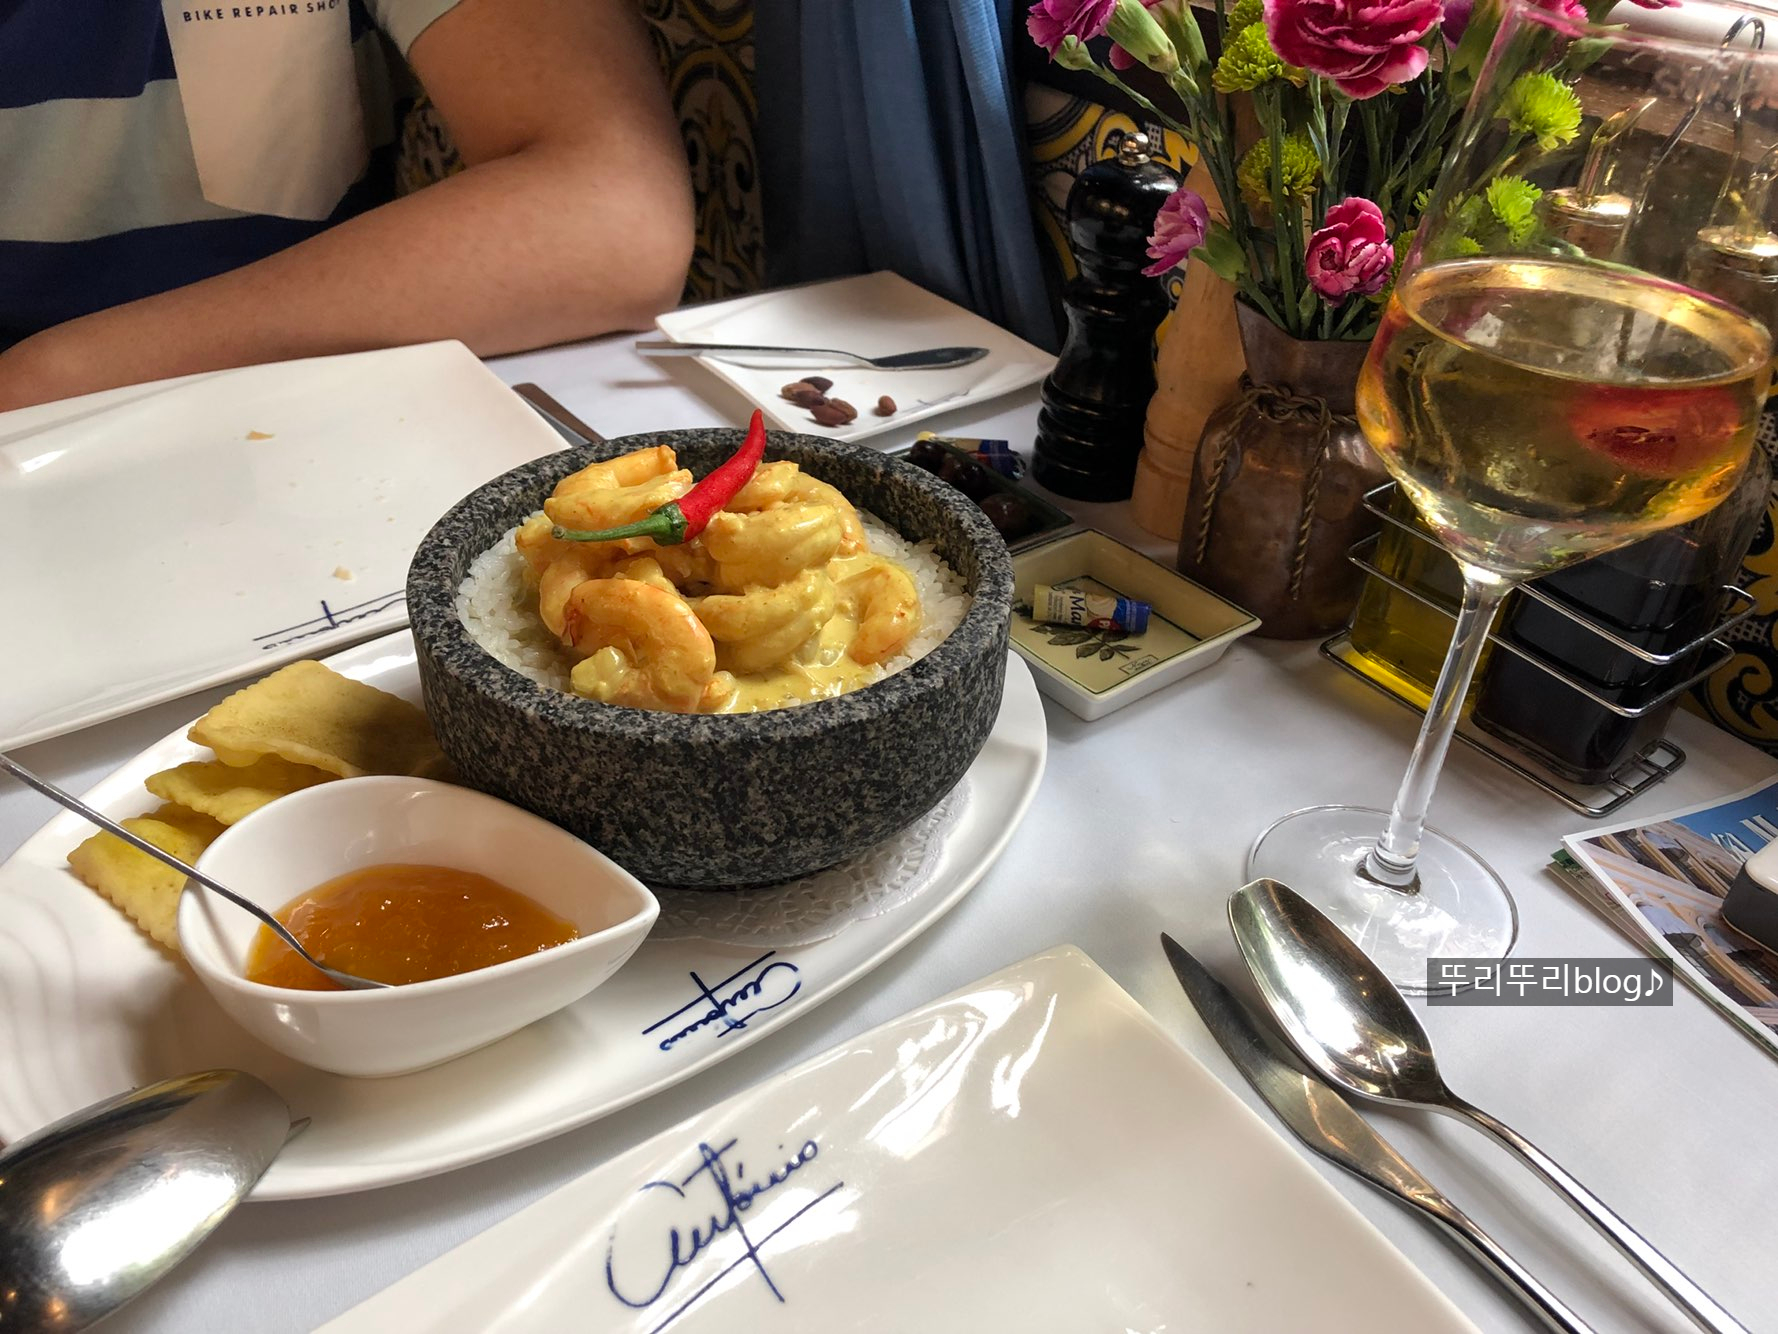plain rice: (481, 570, 516, 645)
